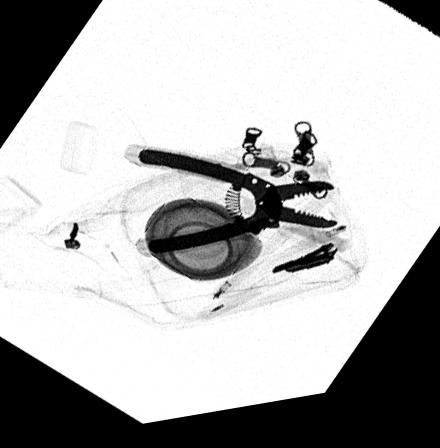Pliers: (137, 152, 339, 259)
